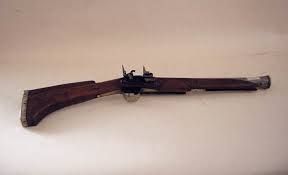Arma Real: (20, 66, 268, 130)
